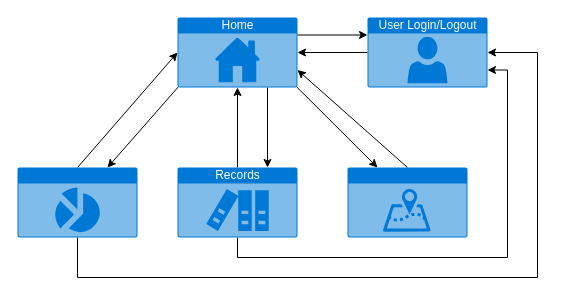
Some shapes in this 563 by 303 pixel diagram are drawn without their labels. Here are the shapes that lost their labels. From the top down, the centre of each, then its label:
At (x=77, y=202): "Department Statistics".
At (x=407, y=202): "Heatmap".
